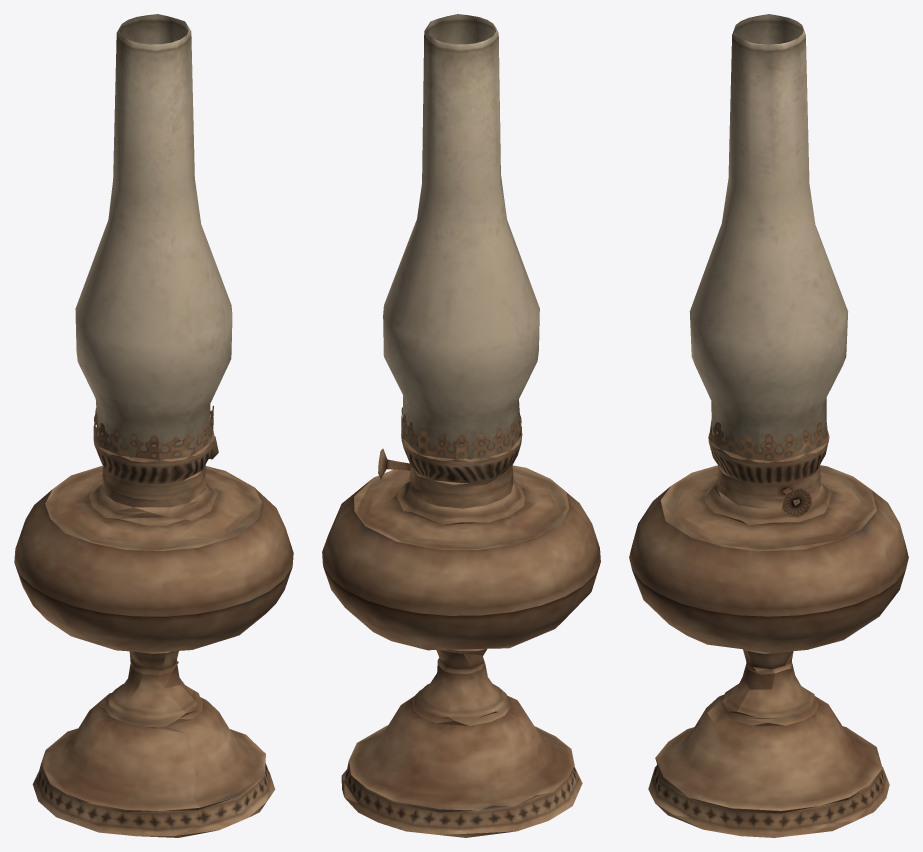
File: lamp-oil-table-b.lod1.glb
3 renders of one model, left to right at view 1: azimuth 30°, elevation 25°; view 2: azimuth 150°, elevation 25°; view 3: azimuth 270°, elevation 25°, orthographic.
Parts seen in each view (by area): view 1: lamp-oil-table-b; view 2: lamp-oil-table-b; view 3: lamp-oil-table-b.
Part boxes in pixels (bbox=[...]): lamp-oil-table-b: bbox=[14, 14, 293, 837]; lamp-oil-table-b: bbox=[322, 14, 600, 837]; lamp-oil-table-b: bbox=[629, 14, 908, 837].
Bounding box in the file's own units: 0.165 × 0.494 × 0.165.
2 materials, 2 textured.
